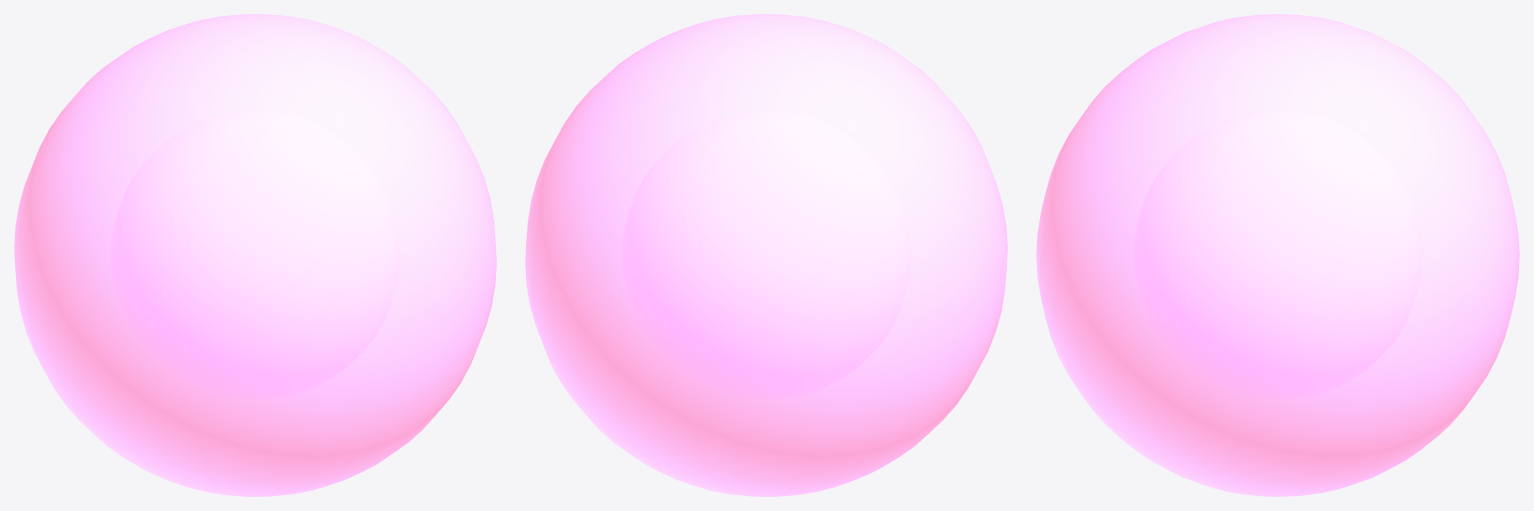
Rendered from powerup-magnet.glb.
3 views of the same model, side by side, from view 1: azimuth 30°, elevation 25°; view 2: azimuth 150°, elevation 25°; view 3: azimuth 270°, elevation 25° (orthographic).
Bounding box in the file's own units: 1 × 1 × 1.
